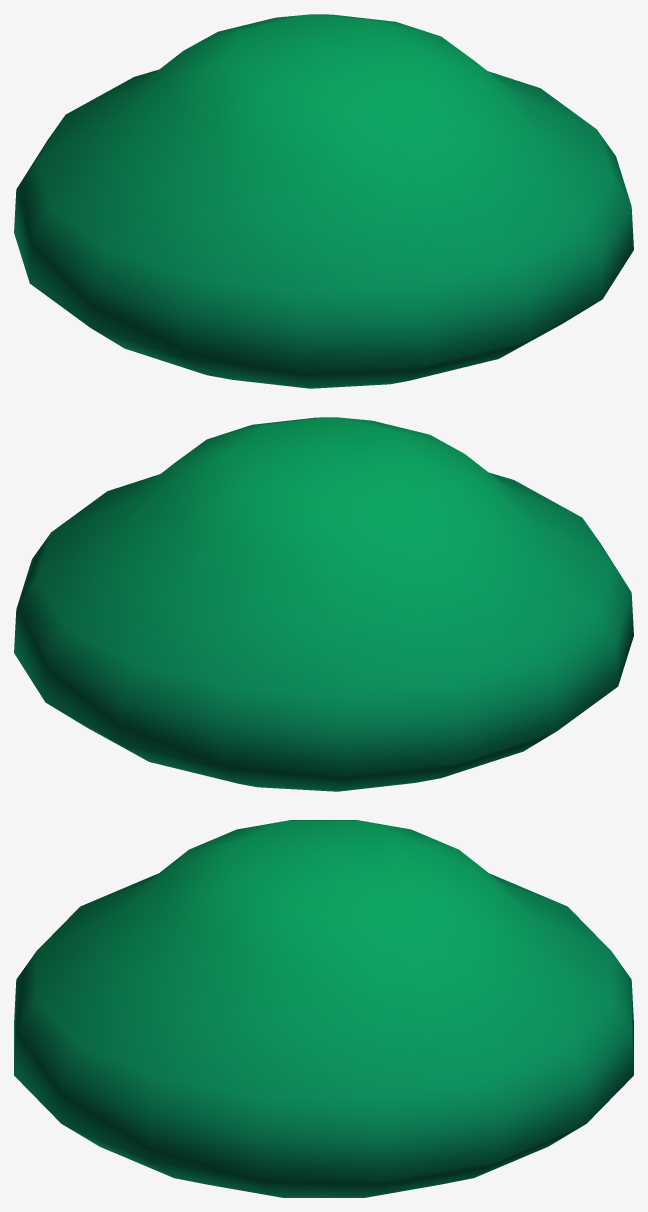
Rendered from Bush_3_B_Color2.fbx.
3 renders of one model, top to bottom at view 1: azimuth 30°, elevation 25°; view 2: azimuth 150°, elevation 25°; view 3: azimuth 270°, elevation 25°, orthographic.
Visible parts, largest first — view 1: Bush_3_B_Color2; view 2: Bush_3_B_Color2; view 3: Bush_3_B_Color2.
Boxes of the visible parts, x1=… form: Bush_3_B_Color2: x1=14, y1=14, x2=633, y2=388; Bush_3_B_Color2: x1=14, y1=417, x2=633, y2=791; Bush_3_B_Color2: x1=14, y1=820, x2=633, y2=1197.
Bounding box in the file's own units: 1.68 × 0.8035 × 1.68.
